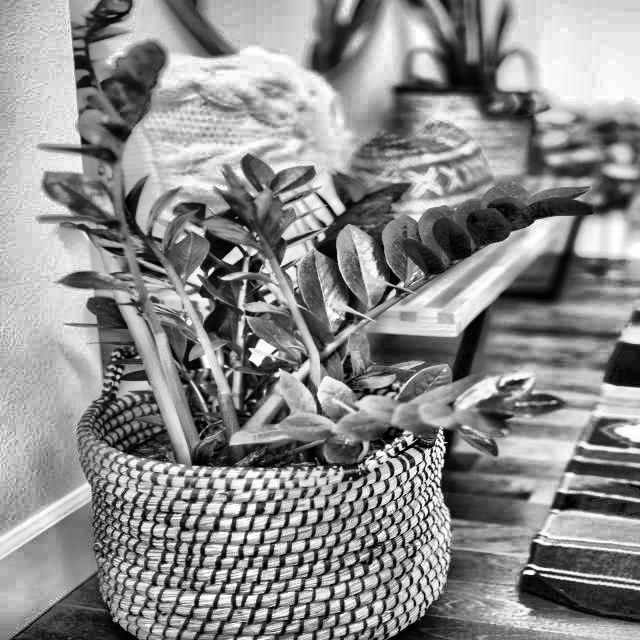plants: (61, 60, 492, 632)
